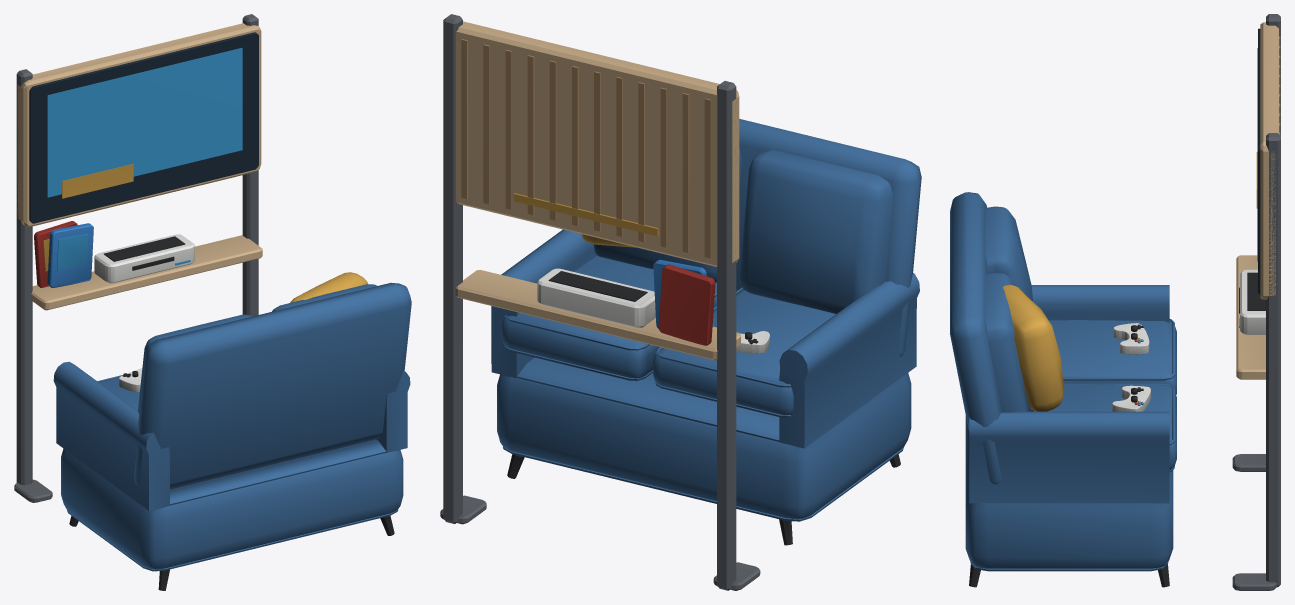
Rendered from gameConsole.glb.
The picture shows the model from 3 angles, left to right: view 1: azimuth 30°, elevation 25°; view 2: azimuth 150°, elevation 25°; view 3: azimuth 270°, elevation 25°; orthographic projection. The views are drawn at different scales.
Parts seen in each view (by area): view 1: body; view 2: body; view 3: body.
Boxes of the visible parts, x1,y1,x2,y2 form: body: [14, 14, 411, 590]; body: [440, 14, 921, 590]; body: [950, 14, 1280, 590].
Size of the model in its own units: 0.8888 by 1.34 by 0.8916.
